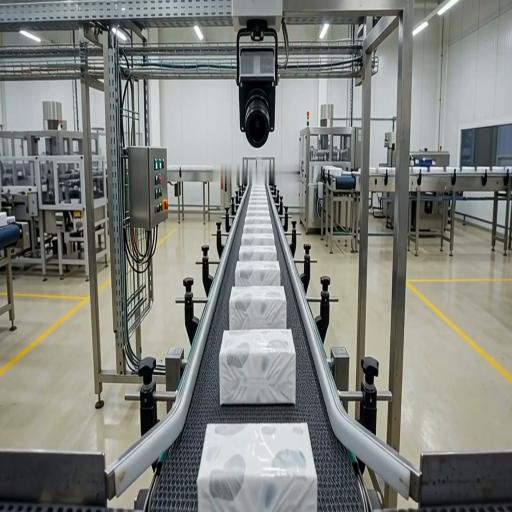good: (196, 423, 318, 512), (218, 325, 296, 406), (229, 285, 287, 330), (235, 261, 281, 286), (239, 244, 277, 262), (241, 232, 275, 245), (243, 223, 273, 232), (245, 216, 272, 223), (246, 210, 270, 216), (247, 204, 269, 210), (248, 200, 268, 204), (249, 196, 267, 199), (250, 192, 267, 195), (251, 188, 266, 191), (251, 185, 265, 188)
